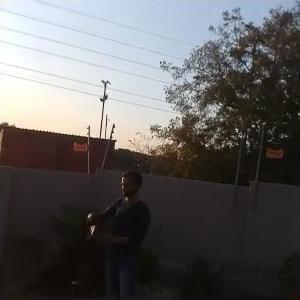follow: (73, 161, 158, 298)
